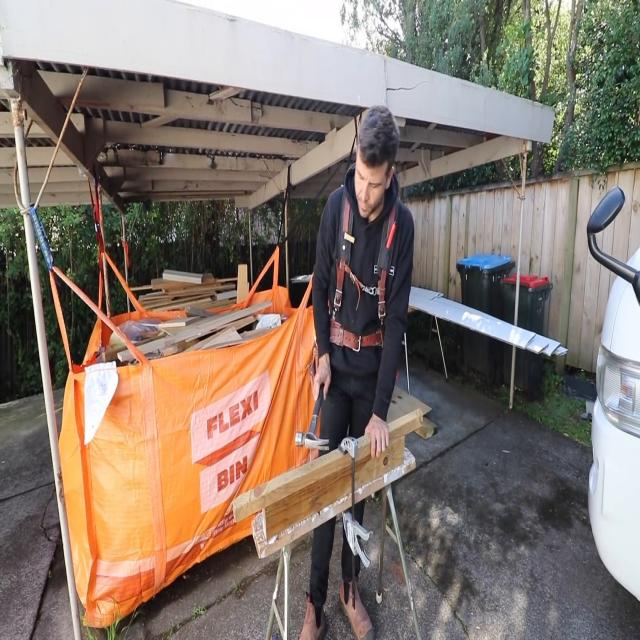hammer: (295, 384, 329, 451)
